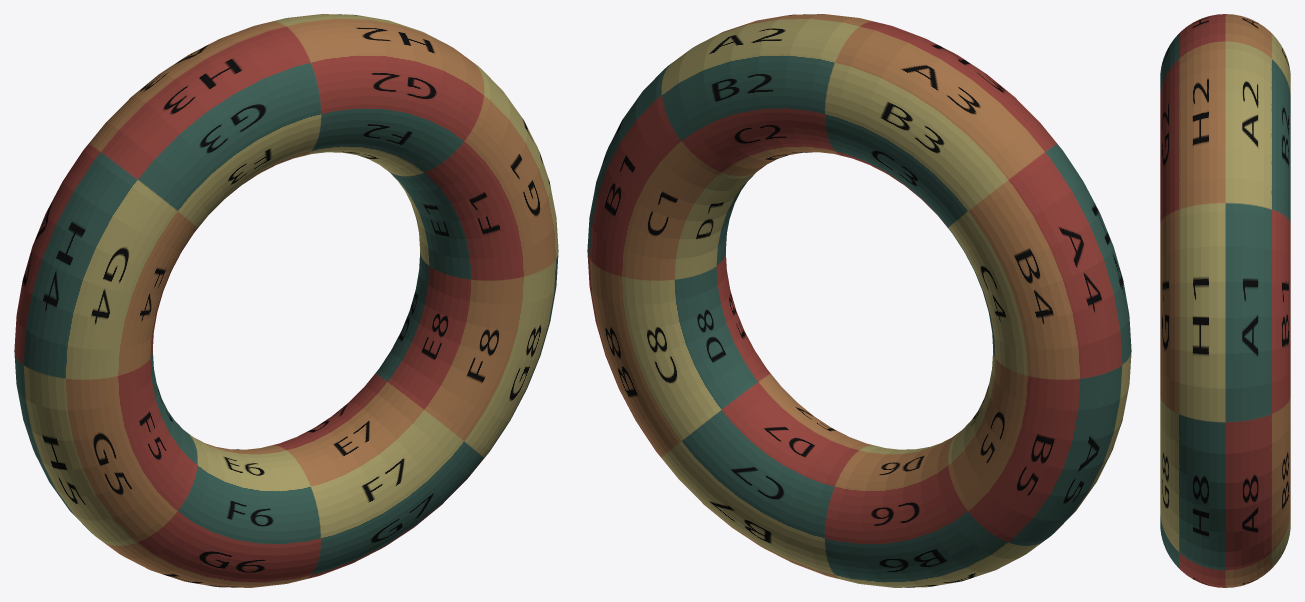
File: texture_torus_R29_r25.glb
3 views of the same model, side by side, from view 1: azimuth 30°, elevation 25°; view 2: azimuth 150°, elevation 25°; view 3: azimuth 270°, elevation 25° (orthographic). The views are drawn at different scales.
Parts seen in each view (by area): view 1: world; view 2: world; view 3: world.
Boxes of the visible parts, left/top/right/bottom form: world: left=14, top=14, right=558, bottom=587; world: left=587, top=14, right=1131, bottom=587; world: left=1160, top=14, right=1290, bottom=587.
Bounding box in the file's own units: 38 × 37.93 × 8.65.
1 material, 1 textured.
